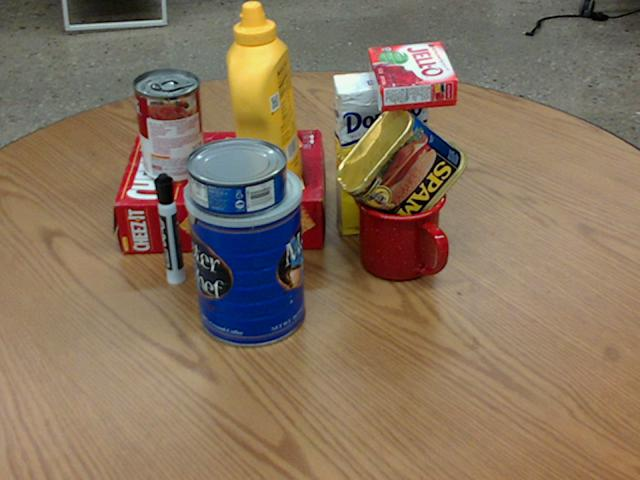cracker_box: (112, 132, 322, 254)
gelatin_box: (369, 42, 457, 110)
large_marker: (155, 174, 186, 285)
master_chef_can: (182, 157, 306, 346)
mug: (355, 172, 450, 282)
mustard_bottle: (226, 1, 302, 201)
potted_meat_can: (335, 104, 467, 233)
sugar_box: (334, 68, 429, 237)
tomato_soup_can: (132, 68, 204, 183)
tuna_fish_can: (185, 136, 286, 215)
